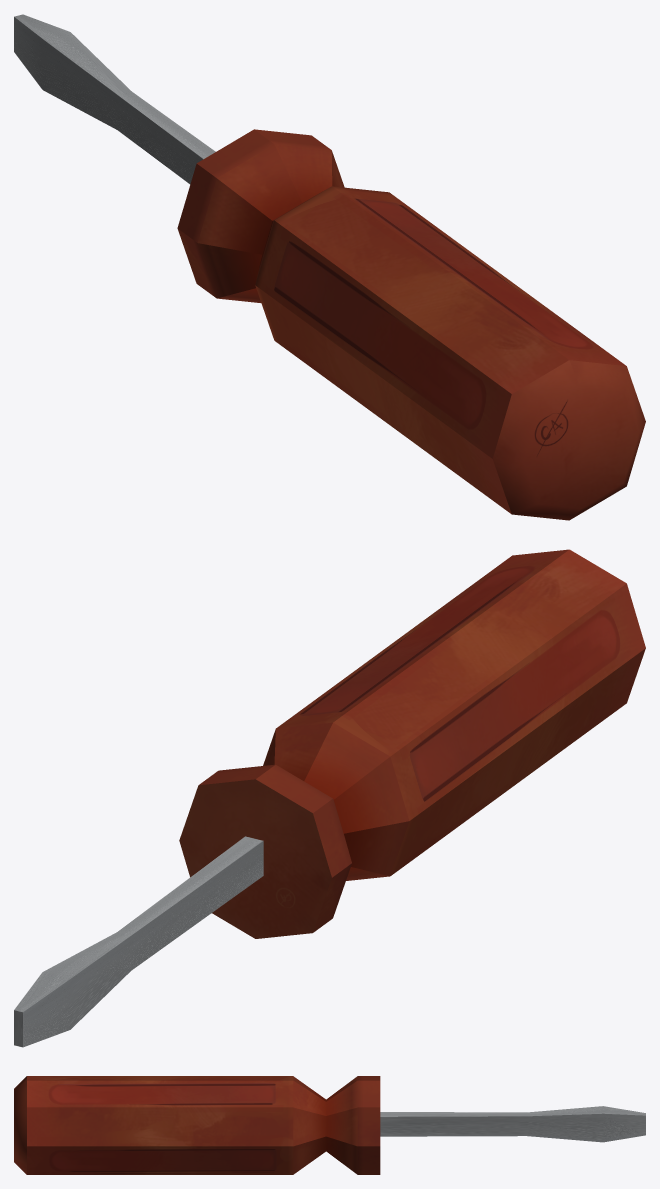
The model's file is Desarmador.fbx.
3 renders of one model, top to bottom at view 1: azimuth 30°, elevation 25°; view 2: azimuth 150°, elevation 25°; view 3: azimuth 270°, elevation 25°, orthographic. The views are drawn at different scales.
Visible parts, largest first — view 1: Desarmador; view 2: Desarmador; view 3: Desarmador.
Part boxes in pixels (left/top/right/bottom): Desarmador: left=14, top=14, right=645, bottom=520; Desarmador: left=14, top=549, right=645, bottom=1047; Desarmador: left=14, top=1076, right=645, bottom=1174.
Bounding box in the file's own units: 0.6711 × 0.6711 × 4.27.
2 materials, 2 textured.
